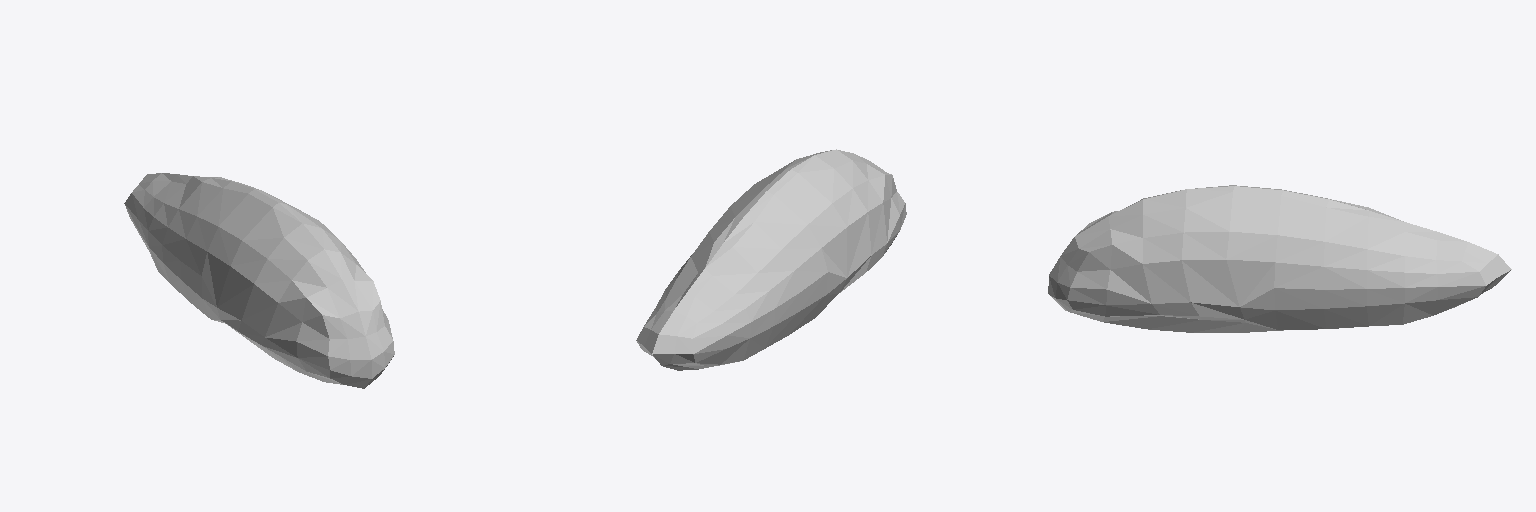
Rendered from Carp.obj.
The picture shows the model from 3 angles: view 1: azimuth 30°, elevation 25°; view 2: azimuth 150°, elevation 25°; view 3: azimuth 270°, elevation 25°; orthographic projection.
Parts seen in each view (by area): view 1: Carp.obj; view 2: Carp.obj; view 3: Carp.obj.
Part boxes in pixels (bbox=[...]): Carp.obj: bbox=[124, 173, 394, 388]; Carp.obj: bbox=[636, 149, 906, 370]; Carp.obj: bbox=[1048, 185, 1511, 332].
Bounding box in the file's own units: 1.68 × 1.9 × 5.69.